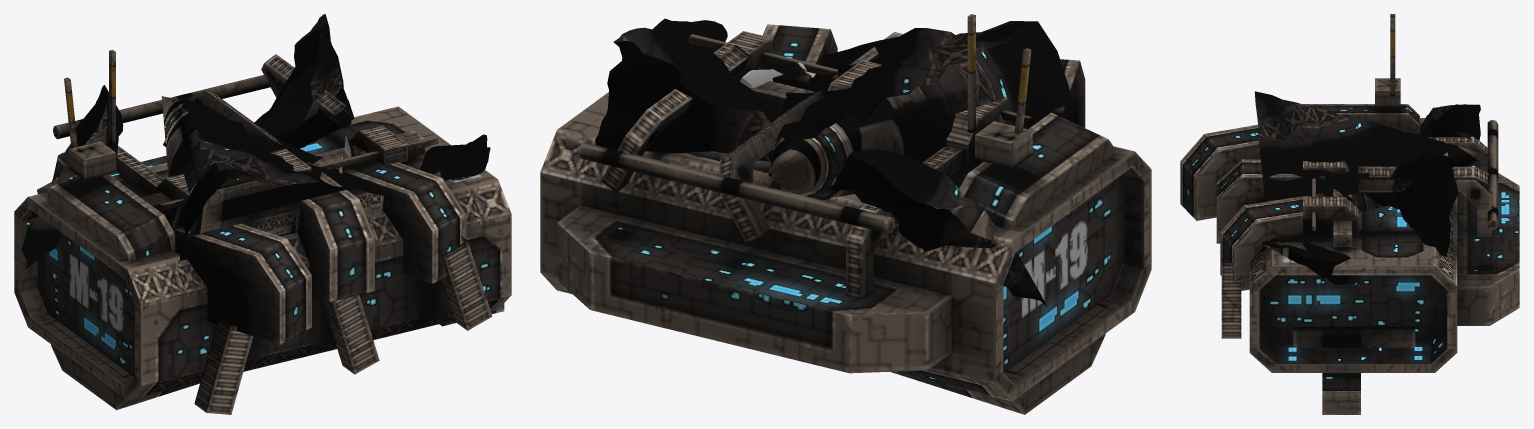
The model's file is DestroyedSpaceStation.fbx.
3 renders of one model, left to right at view 1: azimuth 30°, elevation 25°; view 2: azimuth 150°, elevation 25°; view 3: azimuth 270°, elevation 25°, orthographic. The views are drawn at different scales.
Visible parts, largest first — view 1: polySurface1, shard2, polySurface16, polySurface5, polySurface20, polySurface8, shard7, polySurface19, shard4, polySurface15, polySurface23, shard3 (+12 smaller); view 2: polySurface1, polySurface4, shard2, shard7, shard4, polySurface8, polySurface12, polySurface22, polySurface7, polySurface18, polySurface5, polySurface2 (+10 smaller); view 3: polySurface1, shard2, polySurface4, shard7, polySurface16, polySurface5, polySurface2, polySurface20, polySurface6, shard4, shard3, polySurface8 (+10 smaller).
Part boxes in pixels (x1,y1,x2,y2): polySurface1: (14, 106, 511, 399); shard2: (161, 96, 386, 260); polySurface16: (175, 223, 311, 344); polySurface5: (331, 150, 466, 283); polySurface20: (297, 162, 374, 301); polySurface8: (45, 174, 174, 260); shard7: (254, 14, 353, 148); polySurface19: (194, 319, 252, 414); shard4: (21, 85, 123, 269); polySurface15: (441, 236, 492, 330); polySurface23: (321, 295, 379, 374); shard3: (420, 134, 490, 181); polySurface1: (540, 92, 1151, 401); polySurface4: (557, 205, 951, 373); shard2: (768, 21, 1073, 200); shard7: (595, 27, 780, 161); shard4: (831, 149, 1047, 306); polySurface8: (959, 112, 1114, 229); polySurface12: (578, 142, 894, 233); polySurface22: (719, 89, 825, 245); polySurface7: (601, 45, 750, 192); polySurface18: (846, 146, 962, 299); polySurface5: (755, 24, 837, 88); polySurface2: (891, 303, 1107, 414); polySurface1: (1249, 118, 1457, 372); shard2: (1254, 91, 1487, 211); polySurface4: (1457, 173, 1519, 325); shard7: (1384, 152, 1458, 256); polySurface16: (1180, 124, 1260, 220); polySurface5: (1220, 193, 1324, 290); polySurface2: (1293, 326, 1415, 347); polySurface20: (1216, 159, 1324, 243); polySurface6: (1303, 196, 1358, 237); shard4: (1418, 104, 1480, 140); shard3: (1262, 241, 1361, 287); polySurface8: (1302, 104, 1419, 134).
Size of the model in its own units: 3122 by 2210 by 2646.
